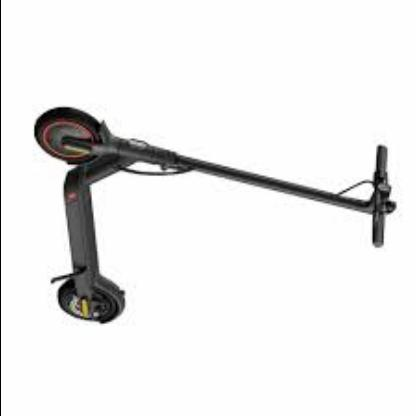bike: (33, 105, 400, 326)
